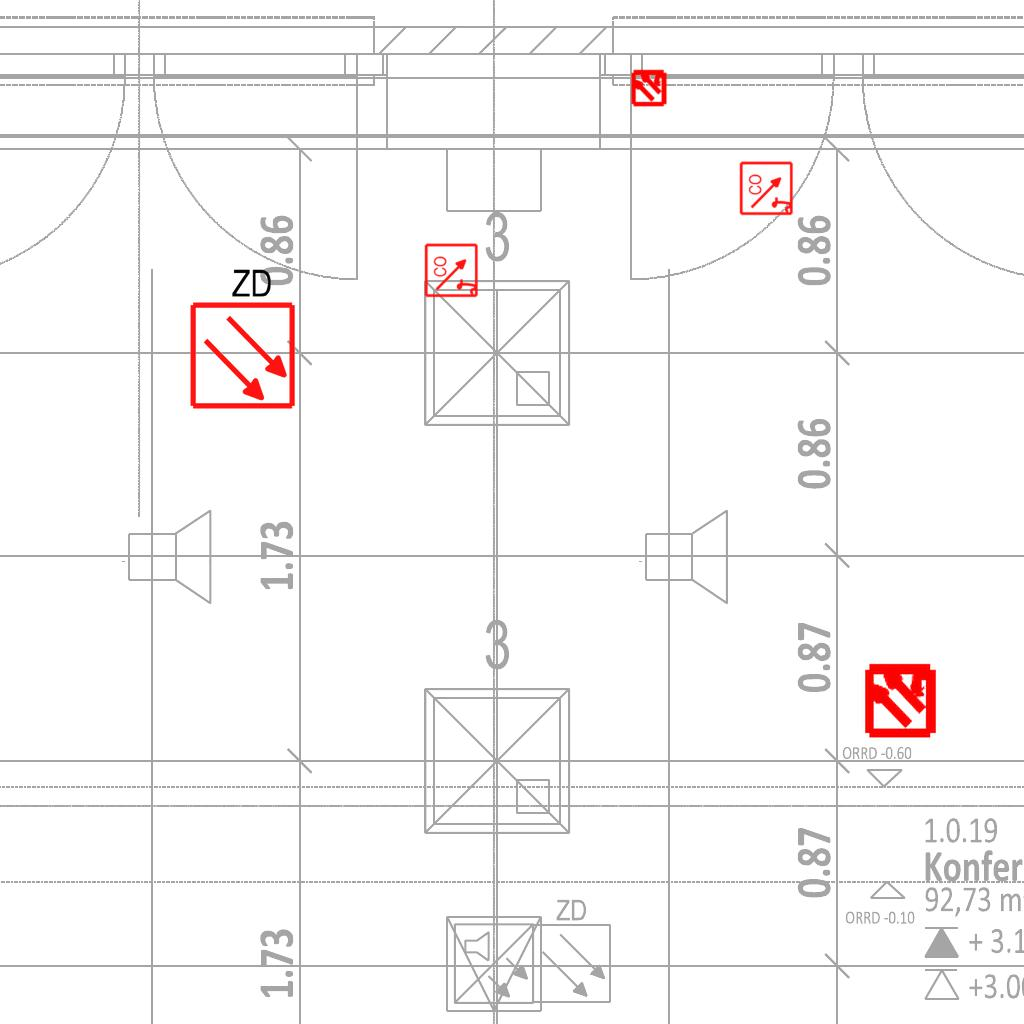OT_Multisensormelder_(Kombination_RMO_WMD): (844, 642, 957, 755), (621, 59, 677, 115)
ROA_Rauchmelder_optisch_mit_Signalgeber_(Sockelsirene): (424, 242, 480, 298), (739, 160, 795, 216)
ZD_Melder_in_Zwischendecke_mit_Revisionsoeffnung_mind_40_x_40_cm: (184, 262, 298, 411)
